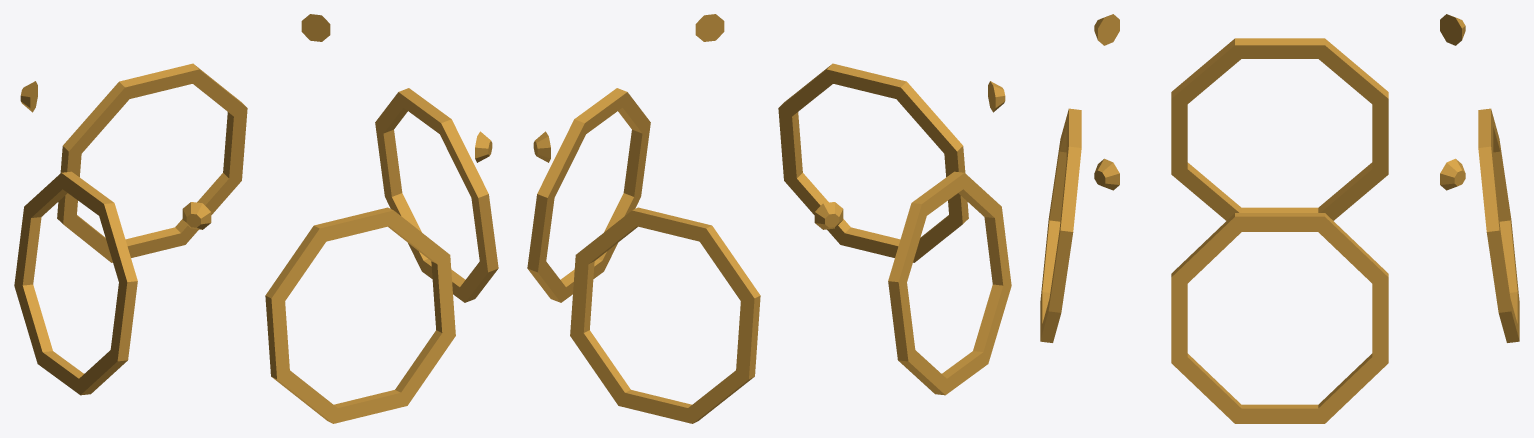
File: MenderKit8.obj
3 views of the same model, side by side, from view 1: azimuth 30°, elevation 25°; view 2: azimuth 150°, elevation 25°; view 3: azimuth 270°, elevation 25° (orthographic). The views are drawn at different scales.
Parts seen in each view (by area): view 1: MenderKit8; view 2: MenderKit8; view 3: MenderKit8.
Part boxes in pixels (x1,y1,x2,y2): MenderKit8: [14, 14, 498, 423]; MenderKit8: [527, 14, 1011, 423]; MenderKit8: [1040, 14, 1519, 423].
Size of the model in its own units: 0.7428 by 0.4032 by 0.7428.
